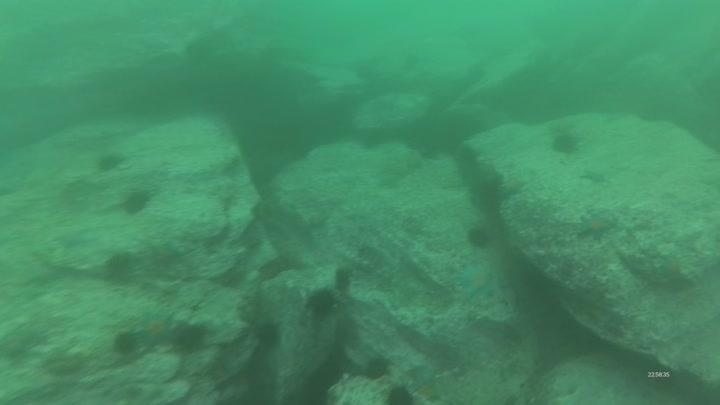echinus: (467, 173, 506, 214), (171, 320, 209, 355), (102, 249, 138, 284), (304, 286, 339, 320), (252, 317, 284, 353), (119, 187, 154, 217), (548, 128, 583, 157), (110, 329, 141, 359), (361, 353, 393, 382), (94, 150, 128, 175), (464, 223, 494, 251), (383, 382, 417, 405), (331, 265, 356, 294)
starfish: (134, 308, 179, 350), (455, 261, 500, 301), (576, 210, 617, 242), (146, 238, 185, 271), (51, 225, 96, 252), (655, 251, 689, 282), (410, 377, 444, 404), (497, 173, 528, 199), (578, 166, 611, 186)
